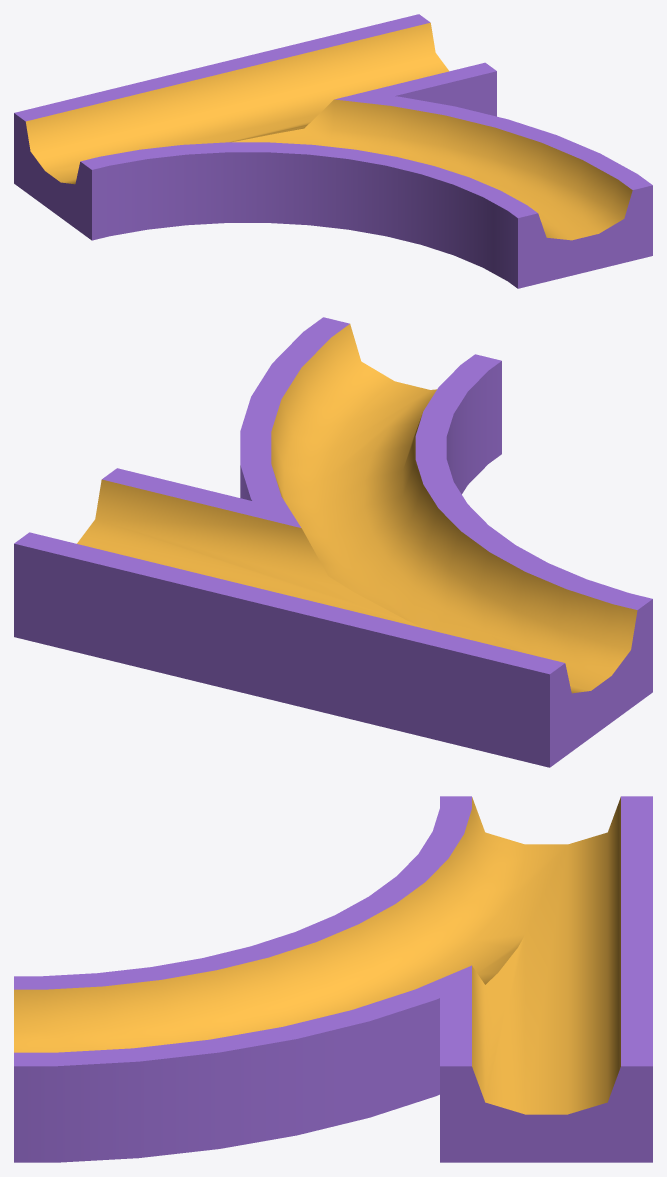
The model's file is split-large-right.glb.
3 renders of one model, top to bottom at view 1: azimuth 30°, elevation 25°; view 2: azimuth 150°, elevation 25°; view 3: azimuth 270°, elevation 25°, orthographic. The views are drawn at different scales.
Visible parts, largest first — view 1: split-large-right; view 2: split-large-right; view 3: split-large-right.
Boxes of the visible parts, x1=… form: split-large-right: x1=14, y1=14, x2=652, y2=288; split-large-right: x1=14, y1=317, x2=652, y2=767; split-large-right: x1=14, y1=796, x2=652, y2=1162.
Bounding box in the file's own units: 3 × 0.4999 × 3.
1 material, 1 textured.
